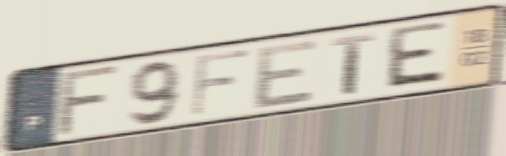9: (128, 57, 182, 127)
E: (250, 36, 321, 112), (381, 18, 449, 92)
F: (54, 62, 125, 140), (188, 45, 254, 120)
T: (330, 30, 377, 97)
